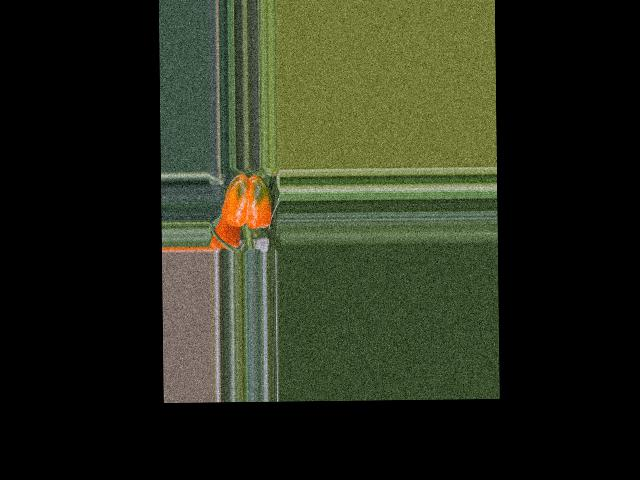bell_pepper: (219, 169, 278, 235)
